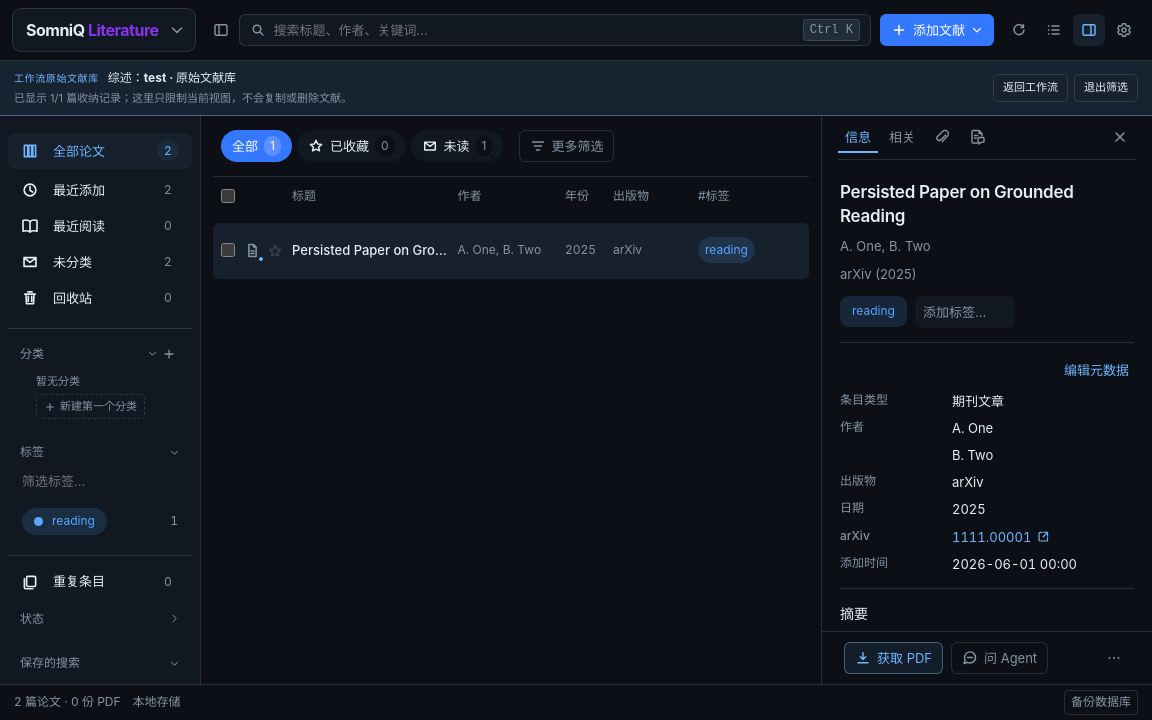
Literature library › opens a workflow-owned corpus as a bounded library view
Check: the text "工作流原始文献库" is shown, box [14,71,99,86]
Check: the text "已显示 1/1 篇收纳记录；这里只限制当前视图，不会复制或删除文献。" is shown, box [14,90,352,107]
Click the button "退出筛选".
click(1106, 88)  # box [1074,74,1138,102]
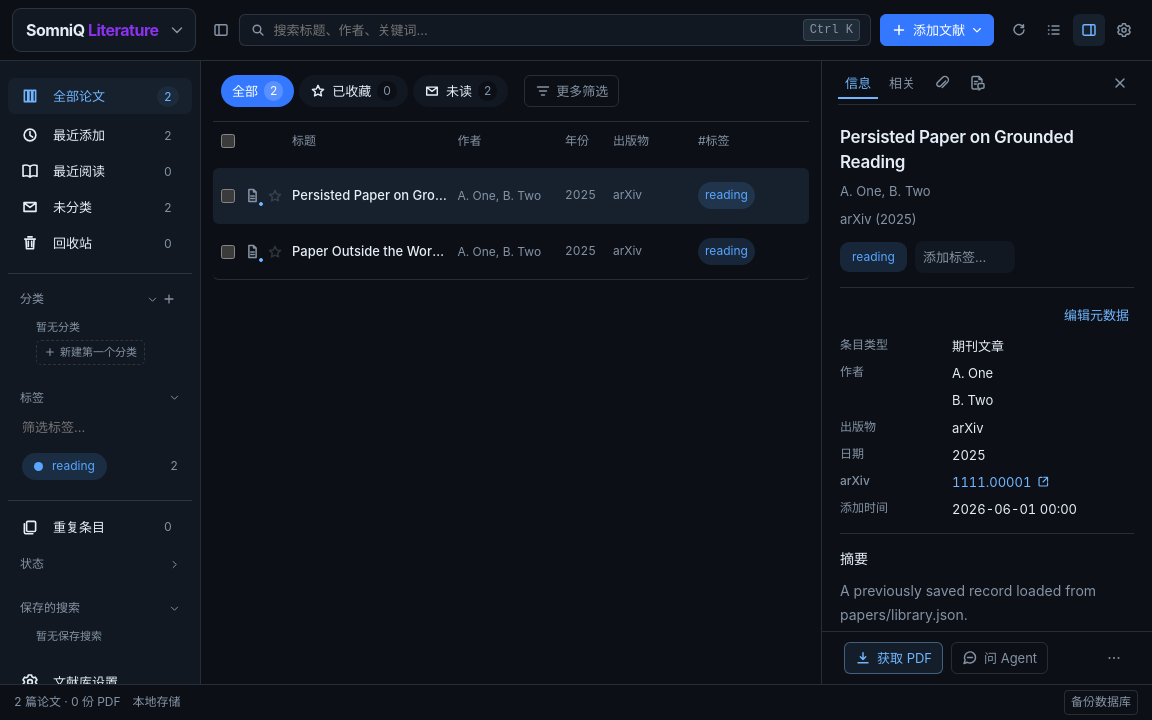
Check: the text "Paper Outside the Workflow Corpus" is shown, box [292,241,448,262]
